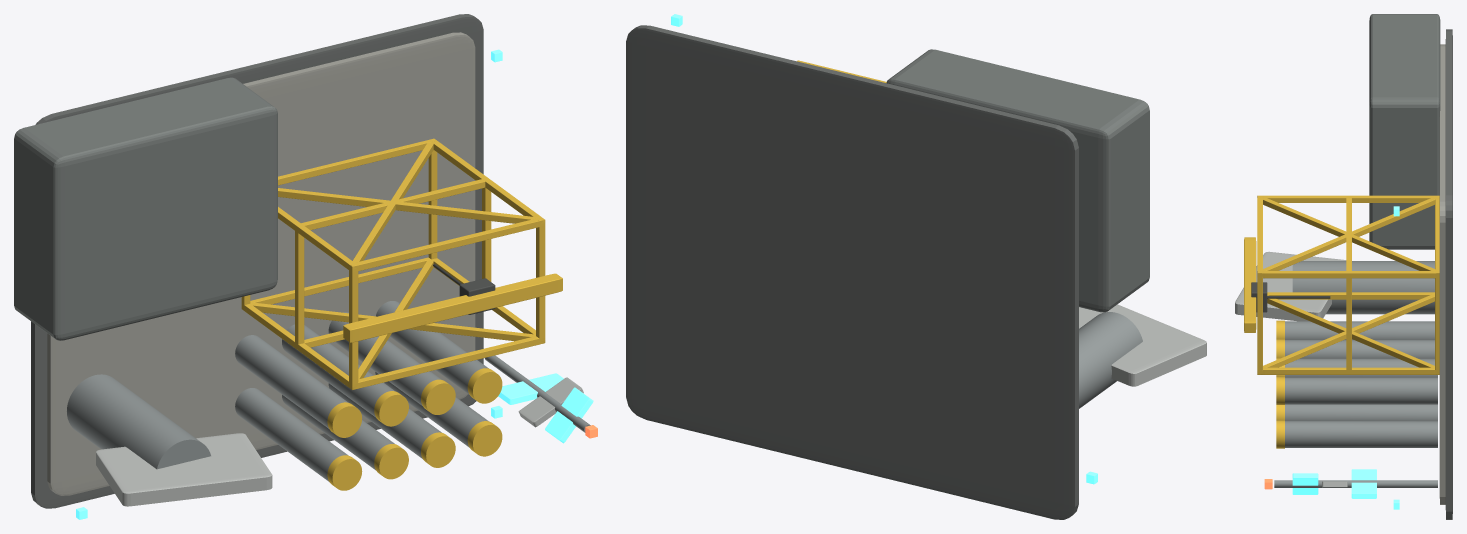
File: b-32-missile-battery-lod1.glb
3 renders of one model, left to right at view 1: azimuth 30°, elevation 25°; view 2: azimuth 150°, elevation 25°; view 3: azimuth 270°, elevation 25°, orthographic. The views are drawn at different scales.
Parts seen in each view (by area): view 1: foundation_inner_pad, bunker_main, foundation, primary_tracking_radar, radar_pedestal, reload_crane_bridge, missile_01_tube, missile_05_tube, missile_08_tube, reload_crane_brace_a_1.5, missile_06_tube, missile_07_tube (+32 smaller); view 2: foundation, bunker_main, primary_tracking_radar, radar_pedestal; view 3: bunker_main, radar_pedestal, missile_08_tube, missile_04_tube, foundation, foundation_inner_pad, missile_03_tube, missile_05_tube, primary_tracking_radar, missile_06_tube, missile_07_tube, reload_crane_brace_a_-1.5 (+18 smaller).
Boxes of the visible parts, left/top/right/bottom form: foundation_inner_pad: left=47, top=32, right=475, bottom=495; bunker_main: left=14, top=77, right=277, bottom=340; foundation: left=31, top=14, right=483, bottom=508; primary_tracking_radar: left=96, top=433, right=272, bottom=506; radar_pedestal: left=67, top=374, right=210, bottom=469; reload_crane_bridge: left=343, top=273, right=562, bottom=342; missile_01_tube: left=235, top=388, right=348, bottom=481; missile_05_tube: left=235, top=335, right=348, bottom=428; missile_08_tube: left=376, top=301, right=488, bottom=394; reload_crane_brace_a_1.5: left=278, top=188, right=535, bottom=223; missile_06_tube: left=282, top=324, right=394, bottom=417; missile_07_tube: left=328, top=312, right=441, bottom=405; foundation: left=626, top=25, right=1078, bottom=519; bunker_main: left=886, top=49, right=1149, bottom=312; primary_tracking_radar: left=1079, top=304, right=1206, bottom=386; radar_pedestal: left=1079, top=312, right=1142, bottom=408; bunker_main: left=1369, top=14, right=1440, bottom=249; radar_pedestal: left=1292, top=261, right=1434, bottom=314; missile_08_tube: left=1285, top=377, right=1437, bottom=404; missile_04_tube: left=1285, top=421, right=1437, bottom=447; foundation: left=1445, top=29, right=1452, bottom=519; foundation_inner_pad: left=1439, top=44, right=1445, bottom=504; missile_03_tube: left=1285, top=404, right=1437, bottom=420; missile_05_tube: left=1285, top=321, right=1434, bottom=339; primary_tracking_radar: left=1235, top=251, right=1346, bottom=321; missile_06_tube: left=1285, top=340, right=1434, bottom=358; missile_07_tube: left=1285, top=358, right=1437, bottom=377; reload_crane_brace_a_-1.5: left=1263, top=294, right=1434, bottom=367.
Size of what is drawn, in the model's own units: 13.53 by 10.05 by 6.12.
